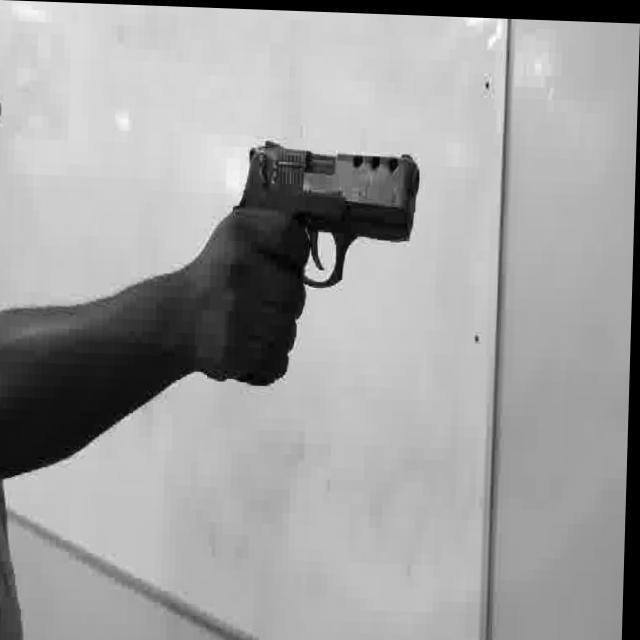weapon: (237, 134, 422, 290)
